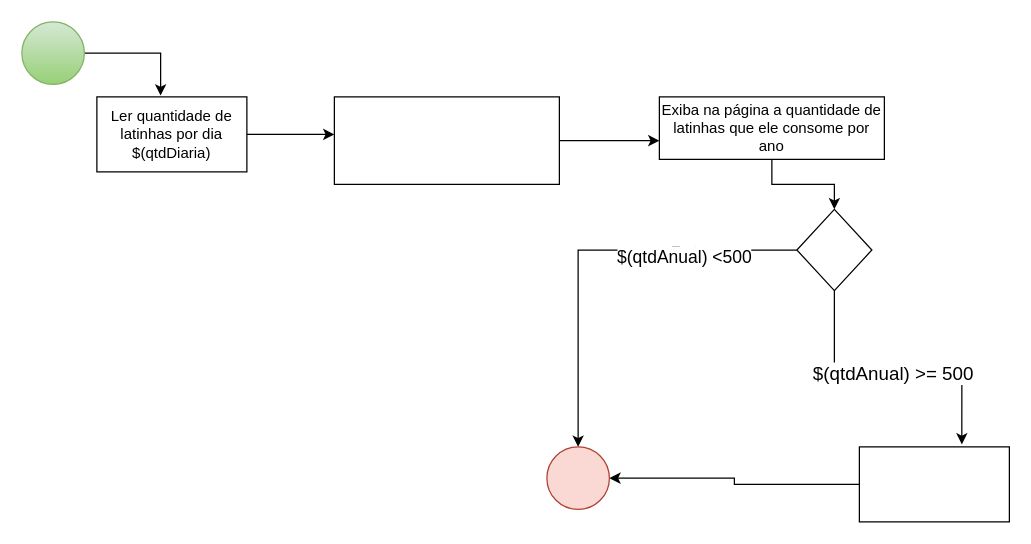
This 1031x544 diagram has some shape labels left out. Each missing label, with the centre of its shape:
Calcule quantidade de latinhas por ano $(qtdAnual) = $(qtdDiaria) * 365: pixel 446 140
Exiba "Cuidado com a diabetes!": pixel 933 484
